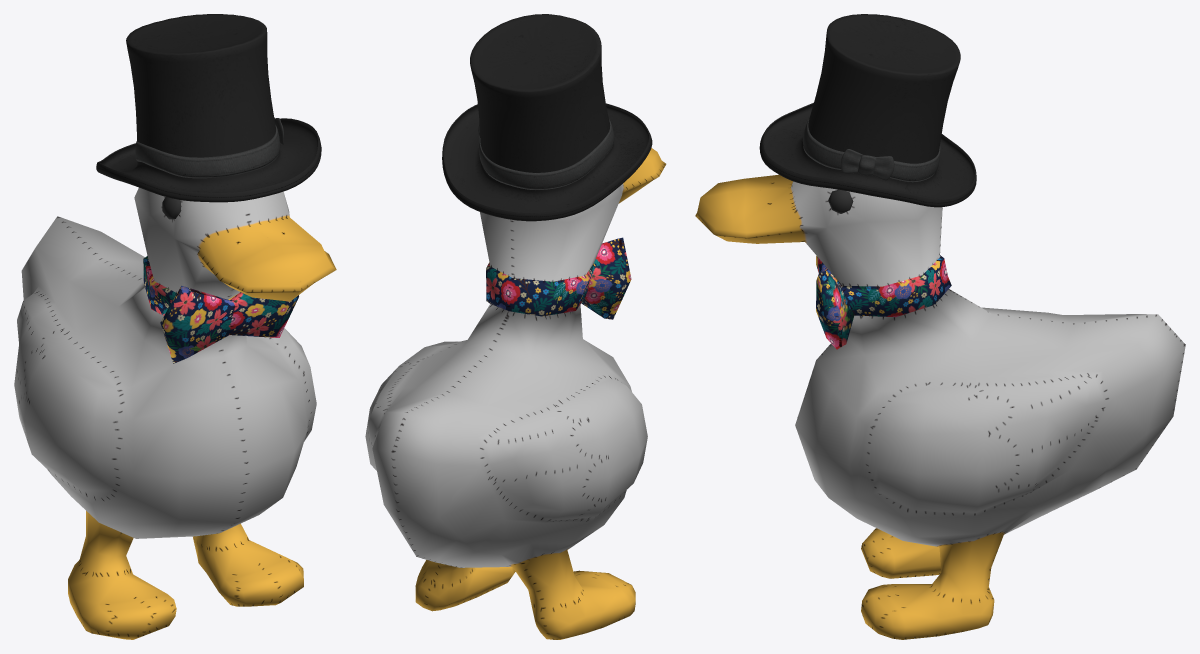
Rendered from Mr_pato.fbx.
3 renders of one model, left to right at view 1: azimuth 30°, elevation 25°; view 2: azimuth 150°, elevation 25°; view 3: azimuth 270°, elevation 25°, orthographic. The views are drawn at different scales.
Visible parts, largest first — view 1: Box001, Cylinder; view 2: Box001, Cylinder; view 3: Box001, Cylinder.
Boxes of the visible parts, box(x1,y1,x2,y2) form: Box001: box(14, 187, 336, 639); Cylinder: box(96, 14, 321, 202); Box001: box(365, 148, 666, 639); Cylinder: box(442, 14, 652, 221); Box001: box(695, 174, 1185, 639); Cylinder: box(759, 14, 976, 207).
Size of the model in its own units: 77.79 by 176 by 138.
